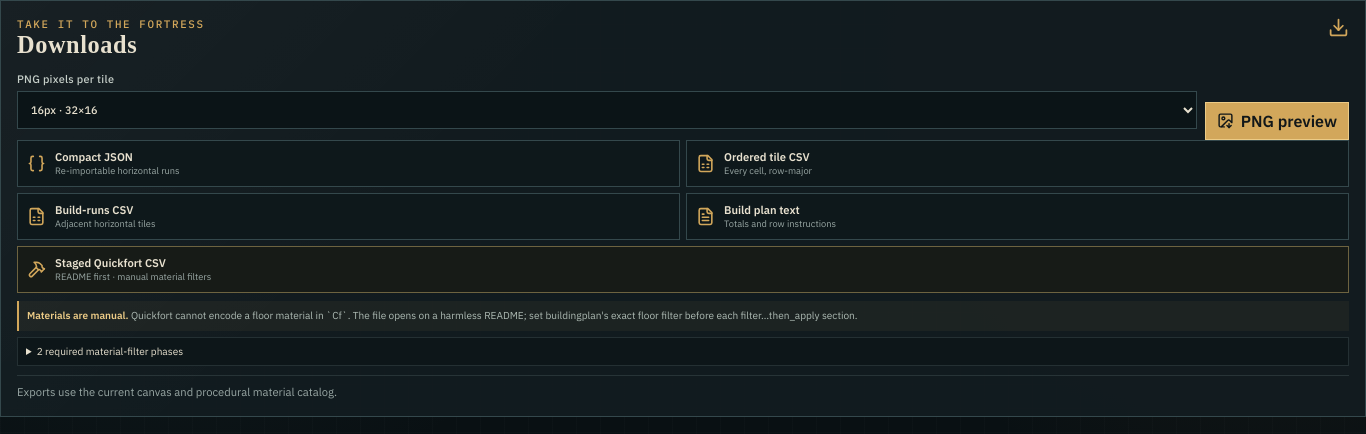
Test: ExportPanel › shows material phases and downloads an instruction-first Quickfort CSV
expect the heading "2 required material-filter phases" is shown: met, box top-left (37, 345), bottom-right (183, 358)
expect the text "Quickfort cannot encode a floor material" is shown: met, box top-left (129, 308), bottom-right (858, 322)
Click the button "Staged Quickfort CSV README first · manual material filters" at x=110, y=263, box top-left (17, 246), bottom-right (1349, 292)
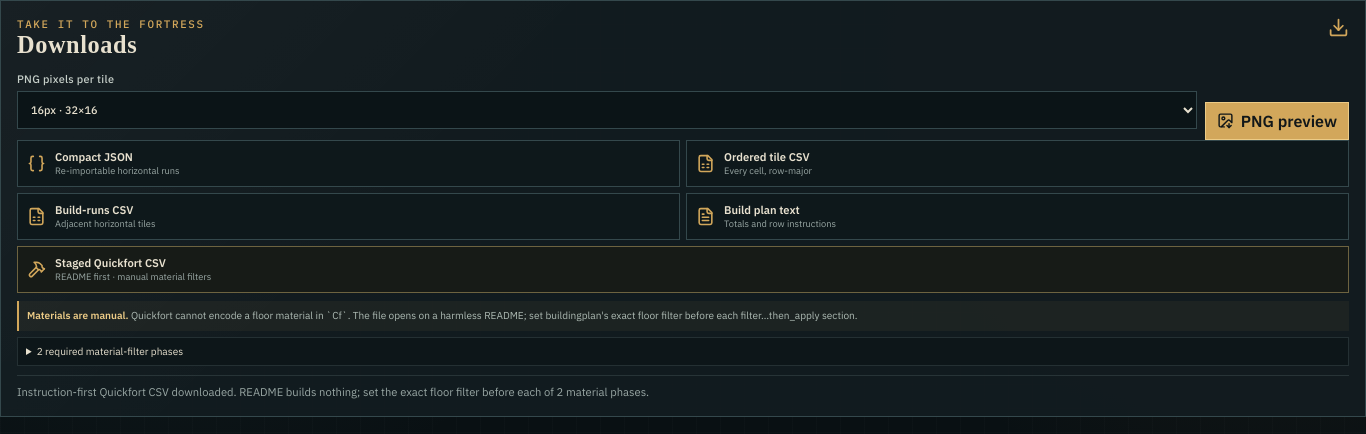
expect the text "README builds nothing" is shown: met, box top-left (17, 385), bottom-right (649, 399)
